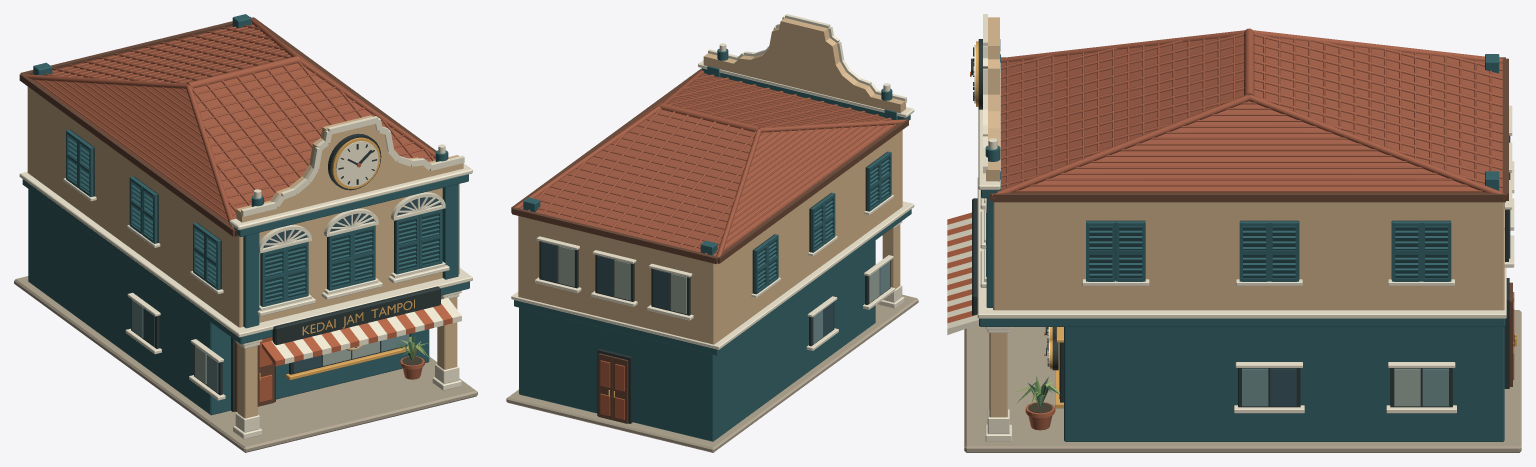
3 renders of one model, left to right at view 1: azimuth 30°, elevation 25°; view 2: azimuth 150°, elevation 25°; view 3: azimuth 270°, elevation 25°, orthographic. The views are drawn at different scales.
Visible parts, largest first — view 1: Lime plaster bays, Roof covering, Shop cornices, Louvred shutters, Casements and sills, Eave fascia, Canvas sun hood, Five foot way, Radial fanlights, Enamel clock and brass hands, Entrance joinery, Potted pandan (+1 smaller); view 2: Lime plaster bays, Roof covering, Shop cornices, Casements and sills, Eave fascia, Louvred shutters, Entrance joinery, Five foot way; view 3: Lime plaster bays, Roof covering, Shop cornices, Louvred shutters, Casements and sills, Eave fascia, Canvas sun hood, Five foot way, Enamel clock and brass hands, Potted pandan, Entrance joinery.
Boxes of the visible parts, bbox=[...] form: Lime plaster bays: bbox=[14, 86, 477, 452]; Roof covering: bbox=[20, 18, 435, 233]; Shop cornices: bbox=[19, 14, 472, 344]; Louvred shutters: bbox=[63, 129, 445, 310]; Casements and sills: bbox=[125, 292, 414, 400]; Eave fascia: bbox=[19, 17, 436, 236]; Canvas sun hood: bbox=[262, 298, 461, 366]; Five foot way: bbox=[233, 290, 461, 439]; Radial fanlights: bbox=[259, 192, 445, 253]; Enamel clock and brass hands: bbox=[328, 133, 381, 350]; Entrance joinery: bbox=[231, 337, 275, 411]; Potted pandan: bbox=[393, 335, 429, 379]; Lime plaster bays: bbox=[506, 130, 918, 452]; Roof covering: bbox=[514, 70, 908, 260]; Shop cornices: bbox=[511, 14, 914, 355]; Casements and sills: bbox=[535, 236, 895, 350]; Eave fascia: bbox=[511, 69, 908, 264]; Louvred shutters: bbox=[751, 151, 893, 297]; Entrance joinery: bbox=[597, 349, 632, 423]; Five foot way: bbox=[878, 221, 904, 308]; Lime plaster bays: bbox=[964, 202, 1521, 452]; Roof covering: bbox=[991, 28, 1506, 198]; Shop cornices: bbox=[972, 14, 1506, 326]; Louvred shutters: bbox=[984, 198, 1454, 285]; Casements and sills: bbox=[1055, 105, 1514, 413]; Eave fascia: bbox=[989, 57, 1508, 202]; Canvas sun hood: bbox=[947, 212, 978, 334]; Five foot way: bbox=[985, 327, 1011, 441]; Enamel clock and brass hands: bbox=[970, 39, 1058, 370]; Potted pandan: bbox=[1013, 376, 1060, 430]; Entrance joinery: bbox=[1504, 278, 1516, 388].
Size of the model in its own units: 7.45 by 8.98 by 13.09.
